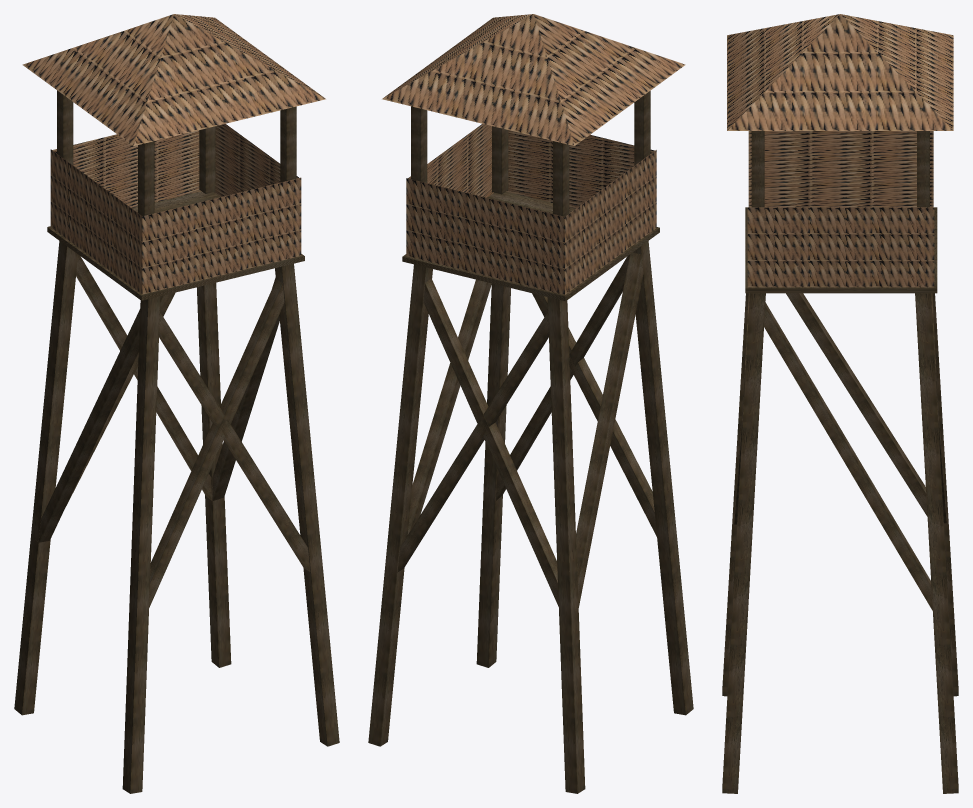
The model's file is lookouttower.gltf.
The picture shows the model from 3 angles, left to right: view 1: azimuth 30°, elevation 25°; view 2: azimuth 150°, elevation 25°; view 3: azimuth 270°, elevation 25°; orthographic projection.
Parts seen in each view (by area): view 1: lookouttower_atomic0; view 2: lookouttower_atomic0; view 3: lookouttower_atomic0.
Boxes of the visible parts, bbox=[...] form: lookouttower_atomic0: bbox=[14, 14, 339, 793]; lookouttower_atomic0: bbox=[368, 14, 693, 793]; lookouttower_atomic0: bbox=[722, 14, 958, 793].
Size of the model in its own units: 19.78 by 64.49 by 19.
2 materials, 2 textured.
